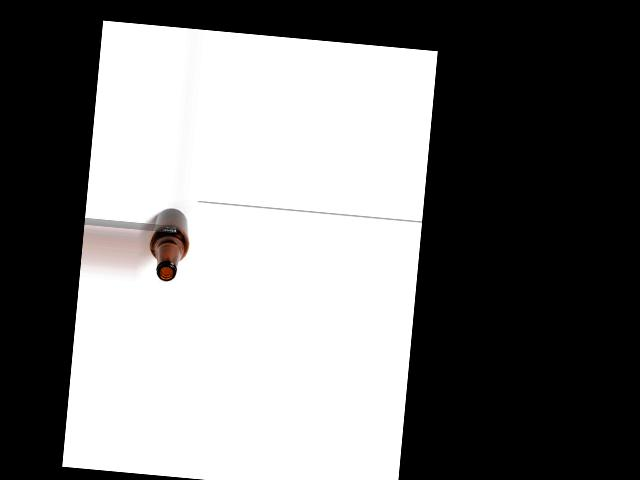beer: (145, 206, 191, 283)
